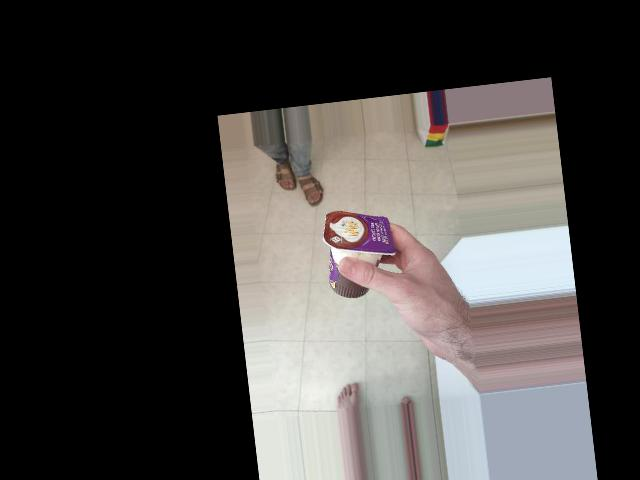milky: (299, 198, 392, 270)
